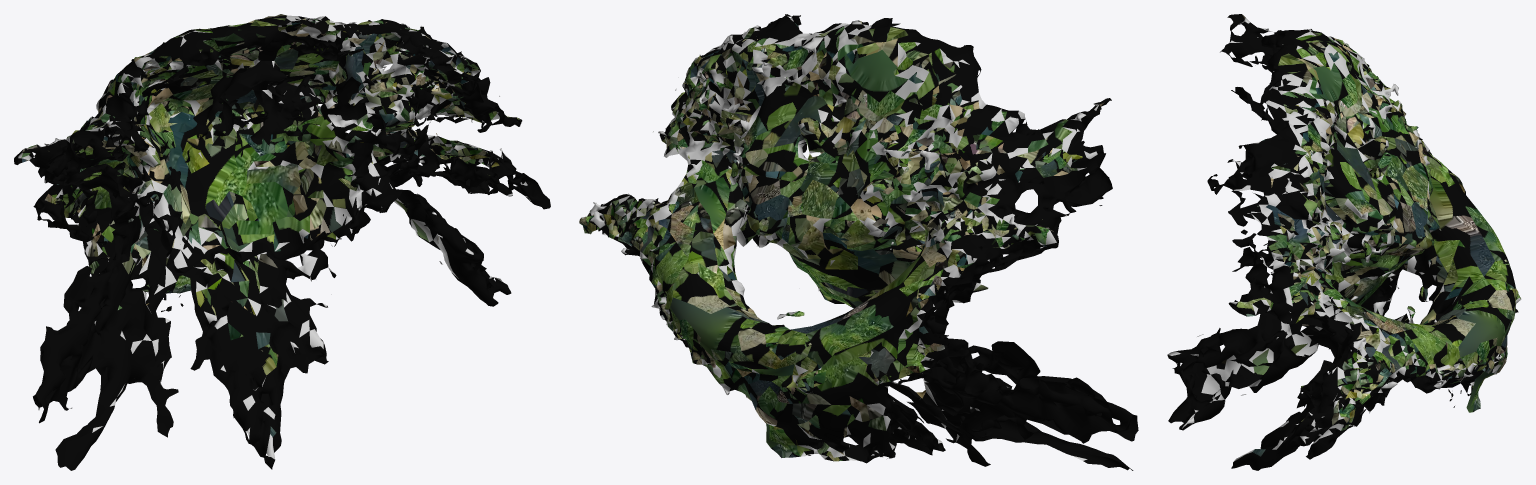
File: parque_melbourne_2_textured_mesh_lowpoly.obj
The picture shows the model from 3 angles, left to right: view 1: azimuth 30°, elevation 25°; view 2: azimuth 150°, elevation 25°; view 3: azimuth 270°, elevation 25°; orthographic projection. The views are drawn at different scales.
Bounding box in the file's own units: 6.67 × 5.22 × 4.
